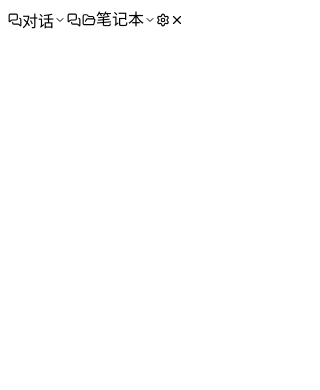
Test: floating bar account › shows the signed-in account identity and available subscription credits
Click the button named "打开设置" at [163, 20], box [156,13,170,27]
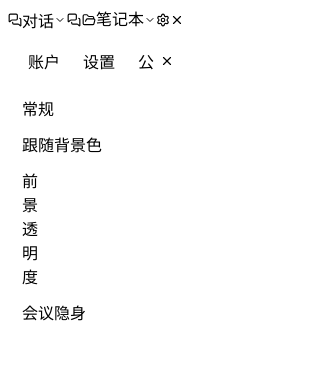
Click the tab "账户" at [44, 61], box [18,48,70,74]
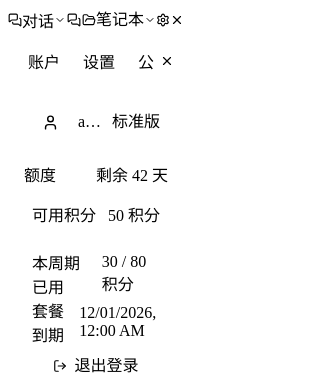
expect the text "admin@answra.local" is shown: met, box [78,113,106,131]
expect the text "标准版" is shown: met, box [112,114,160,130]
expect the text "50 积分" is shown: met, box [108,202,160,226]
